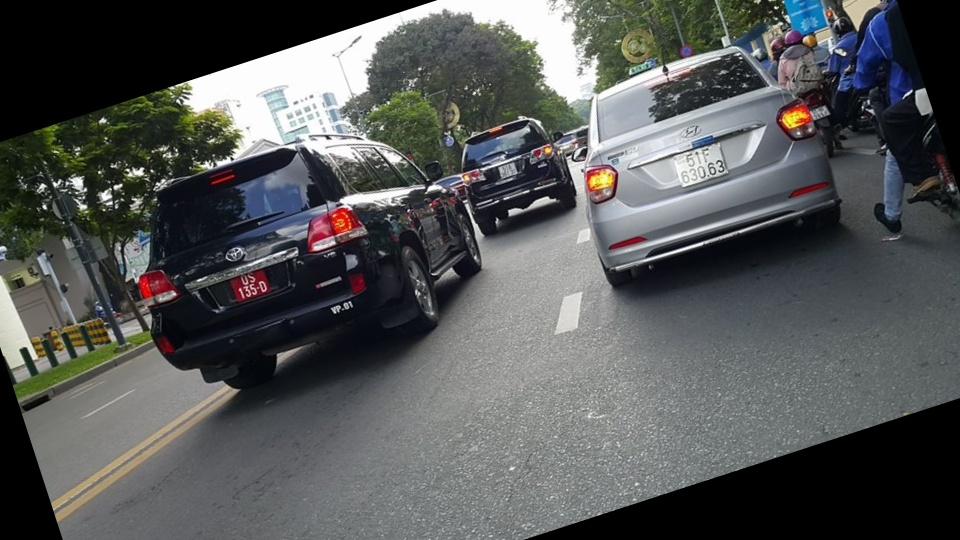plate: (671, 142, 734, 193), (226, 271, 274, 303), (494, 162, 522, 183)
